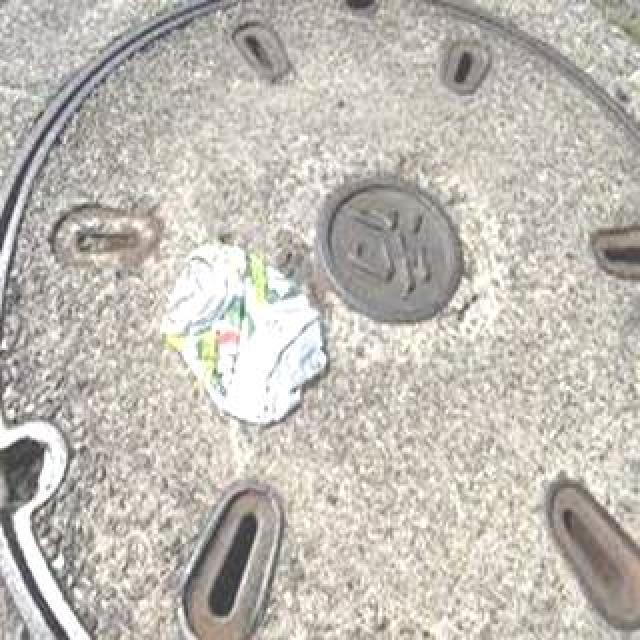Can: (151, 246, 323, 434)
